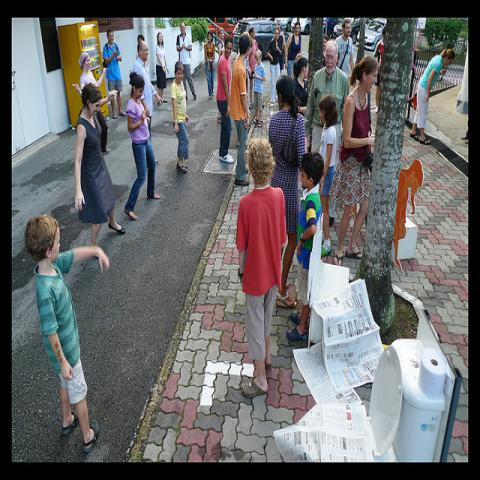car: (232, 21, 291, 58), (357, 16, 387, 50), (212, 17, 239, 46), (290, 17, 310, 36), (208, 25, 228, 41), (274, 18, 294, 31), (336, 22, 342, 36)
